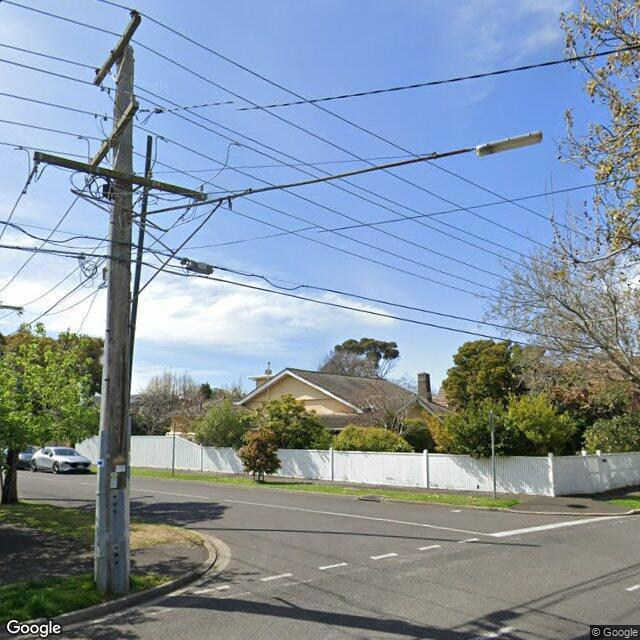crossarm: (34, 152, 206, 202), (94, 14, 142, 86), (89, 100, 139, 166), (0, 305, 24, 310)
streetlight: (128, 130, 545, 219)
timber-pole: (94, 45, 134, 598)
